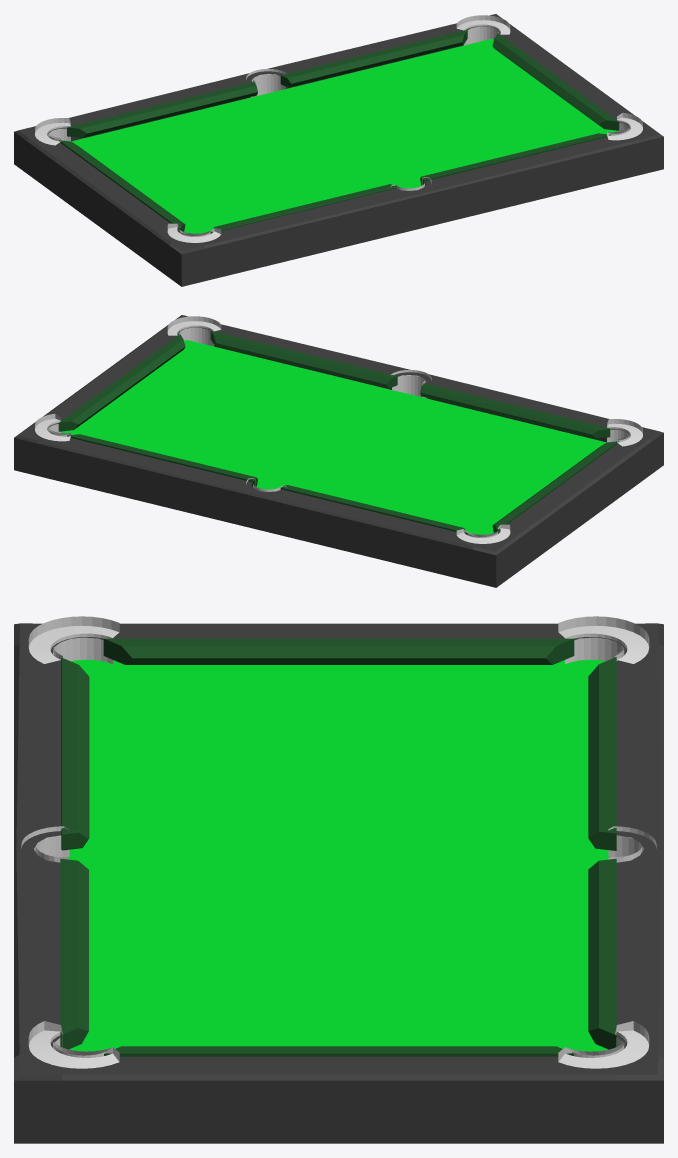
Rendered from pool_table.glb.
3 renders of one model, top to bottom at view 1: azimuth 30°, elevation 25°; view 2: azimuth 150°, elevation 25°; view 3: azimuth 270°, elevation 25°, orthographic. The views are drawn at different scales.
Parts seen in each view (by area): view 1: felt, wood.008, rail, rail.001, rail.006, rail.004, rail.005, wood.003, wood.005, felt.001, wood.002, wood.004 (+1 smaller); view 2: felt, wood.008, rail.004, rail.005, rail.006, rail.001, rail, wood.002, wood.001, felt.001, wood.003, wood (+1 smaller); view 3: felt, wood.008, rail.006, rail, rail.001, rail.004, rail.005, wood.001, wood.005, wood.003, wood.002, felt.001 (+2 smaller).
Part boxes in pixels (box(x1,y1,x2,y2)): felt: box(72, 41, 609, 233); wood.008: box(14, 14, 663, 286); rail: box(67, 82, 257, 137); rail.001: box(280, 29, 467, 87); rail.006: box(59, 140, 185, 232); rail.004: box(420, 133, 610, 185); rail.005: box(210, 184, 396, 233); wood.003: box(456, 15, 510, 45); wood.005: box(35, 118, 70, 145); felt.001: box(71, 39, 616, 188); wood.002: box(607, 112, 642, 140); wood.004: box(246, 69, 287, 97); felt: box(68, 342, 605, 534); wood.008: box(14, 315, 663, 587); rail.004: box(210, 330, 397, 388); rail.005: box(420, 383, 610, 438); rail.006: box(492, 441, 618, 533); rail.001: box(67, 434, 257, 486); rail: box(280, 485, 467, 534); wood.002: box(167, 316, 221, 346); wood.001: box(607, 419, 642, 446); felt.001: box(61, 340, 606, 489); wood.003: box(35, 413, 70, 441); wood: box(390, 370, 431, 398); felt: box(82, 665, 595, 1051); wood.008: box(14, 623, 663, 1143); rail.006: box(103, 638, 574, 664); rail: box(588, 657, 616, 850); rail.001: box(588, 858, 616, 1049); rail.004: box(60, 858, 88, 1049); rail.005: box(61, 658, 89, 850); wood.001: box(28, 616, 119, 663); wood.005: box(558, 616, 649, 663); wood.003: box(558, 1021, 649, 1068); wood.002: box(28, 1021, 119, 1068); felt.001: box(68, 659, 609, 1051).
Size of the model in its own units: 15.16 by 1.2 by 9.13.
